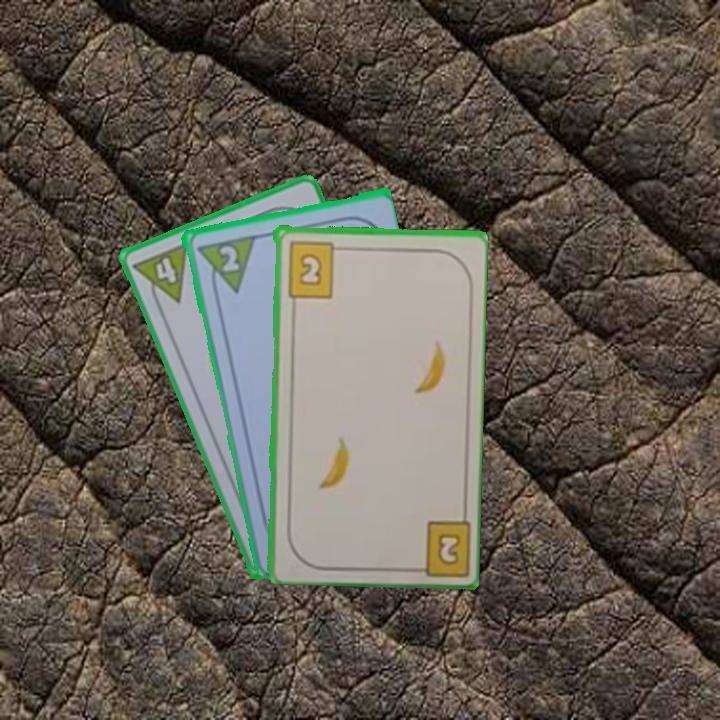2b: (404, 514, 471, 575), (283, 238, 346, 300)
2p: (192, 231, 257, 299)
4p: (129, 238, 191, 313)
